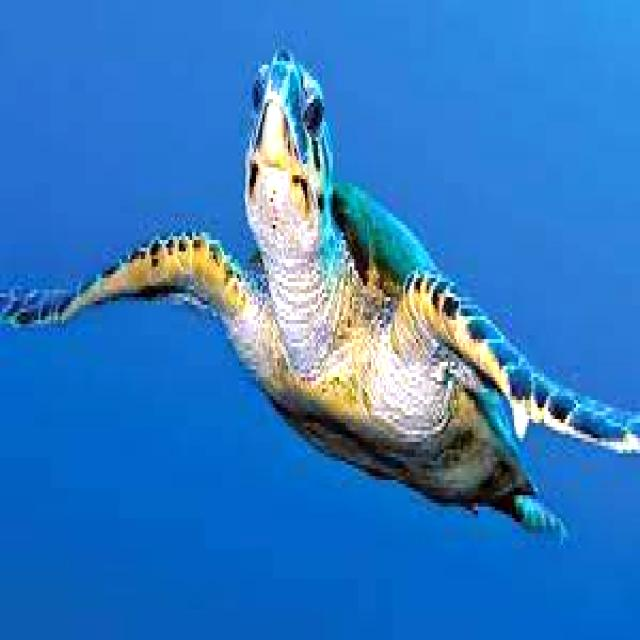Sea turtle: (1, 32, 640, 563)
